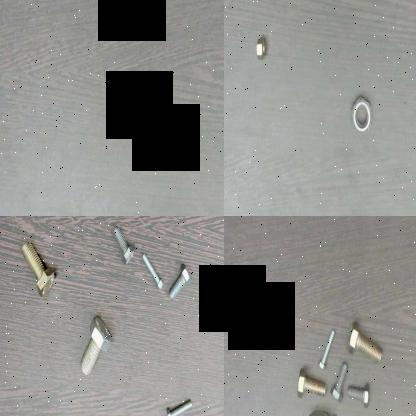Bolts: (74, 309, 114, 379), (20, 236, 55, 302), (346, 312, 380, 362), (166, 255, 192, 307), (112, 219, 136, 268), (292, 369, 327, 399), (140, 247, 162, 294), (163, 387, 195, 416), (329, 356, 347, 402), (346, 382, 371, 410)
NUTS: (350, 90, 374, 139), (133, 133, 153, 173), (254, 30, 268, 64)
